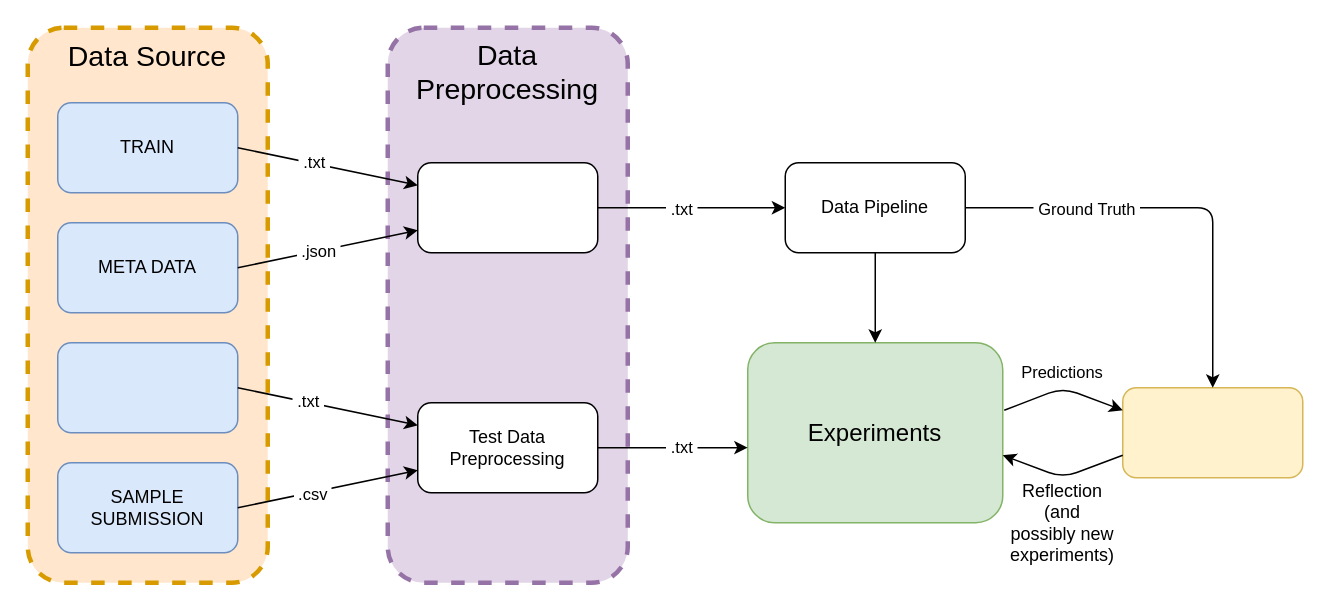
Image size: 1329x611. Some labels were removed from this diagram. The shapes that lost their labels are listed below. From the top down, each one's box as (x1, y1, x2, y2) in pixels, then its label:
(416, 161, 598, 253): Train Data Preprocessing
(56, 341, 238, 433): TEST
(1121, 386, 1303, 478): Evaluation
